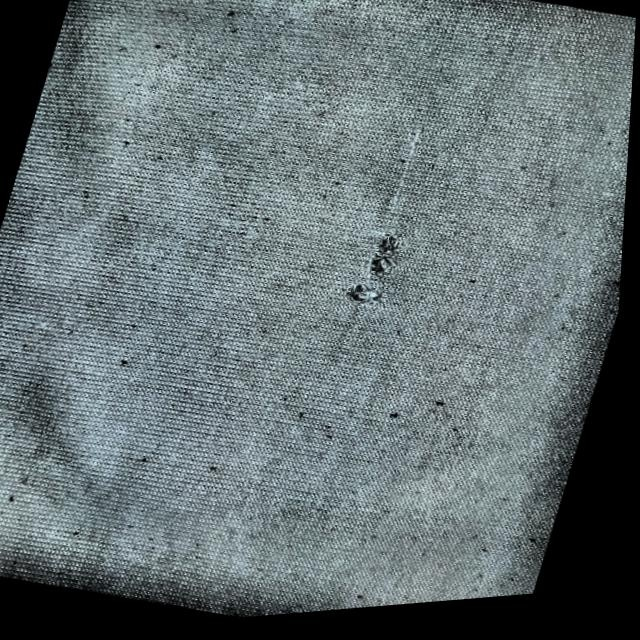Hole: (356, 223, 416, 287), (335, 274, 400, 324)
